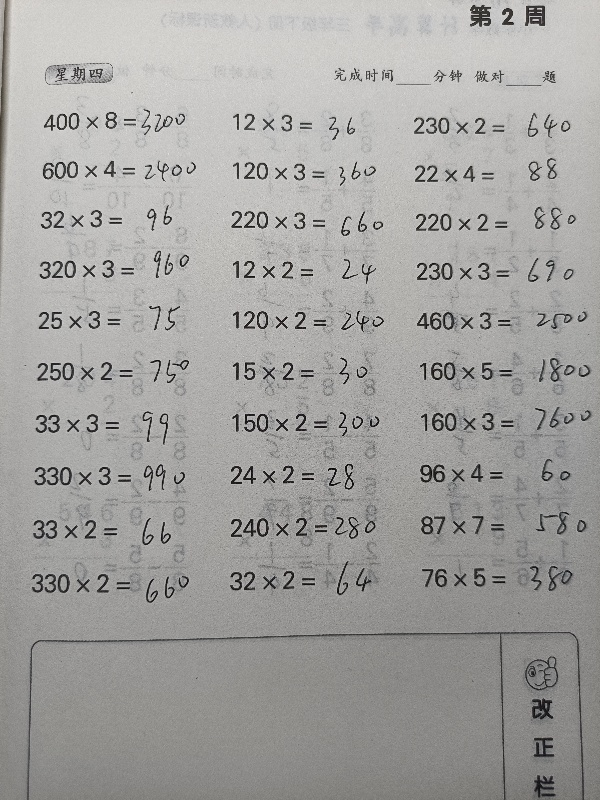equation: (413, 551, 593, 596), (411, 354, 591, 399), (223, 404, 403, 447), (25, 457, 205, 499), (35, 102, 215, 143), (412, 401, 592, 441), (219, 454, 390, 495), (415, 503, 597, 541), (226, 561, 382, 605), (412, 453, 580, 493), (224, 354, 404, 391), (33, 152, 213, 188), (23, 566, 203, 601), (25, 512, 205, 547), (26, 406, 206, 440), (28, 354, 208, 388), (408, 303, 588, 337), (225, 303, 405, 337), (30, 303, 210, 337), (30, 252, 210, 286), (222, 203, 402, 237), (32, 202, 212, 236), (223, 154, 403, 188), (408, 255, 588, 288), (223, 253, 403, 286), (407, 206, 587, 239), (224, 106, 404, 139), (406, 158, 586, 190), (405, 110, 585, 142), (228, 512, 387, 546)
